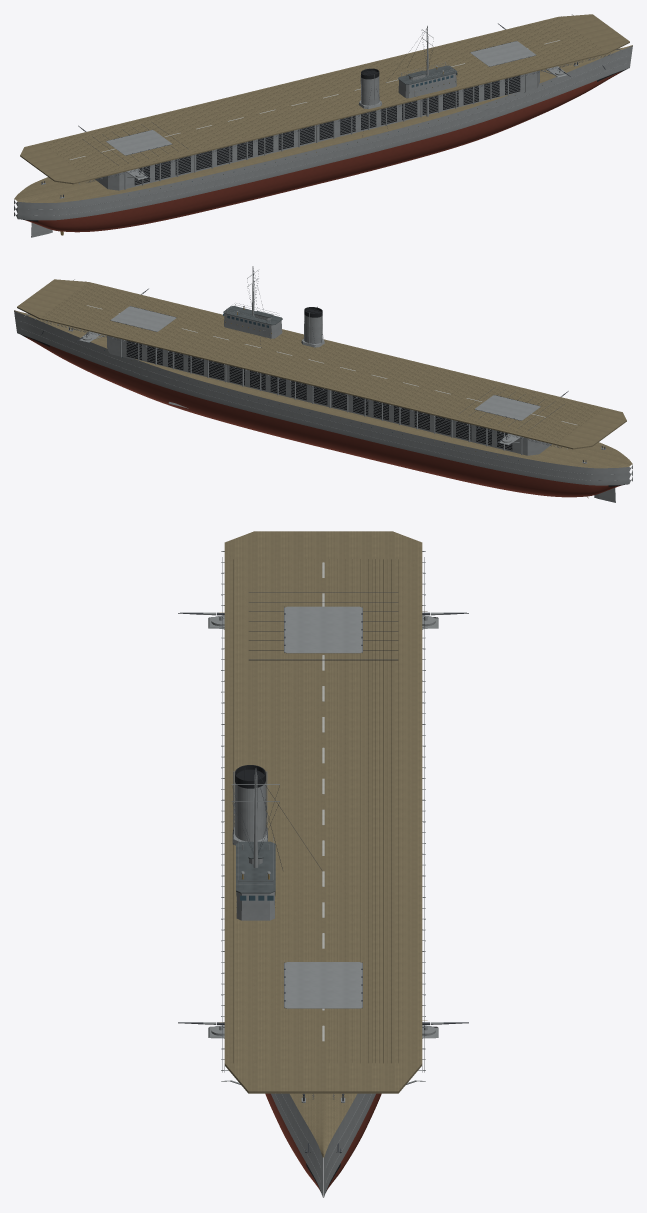
The model's file is fallback-cvl.glb.
3 renders of one model, top to bottom at view 1: azimuth 30°, elevation 25°; view 2: azimuth 150°, elevation 25°; view 3: azimuth 270°, elevation 25°, orthographic. The views are drawn at different scales.
Parts seen in each view (by area): view 1: Original CVL custom-design concept; view 2: Original CVL custom-design concept; view 3: Original CVL custom-design concept.
Boxes of the visible parts, x1,y1,x2,y2 form: Original CVL custom-design concept: [14, 14, 632, 237]; Original CVL custom-design concept: [14, 266, 632, 502]; Original CVL custom-design concept: [178, 531, 468, 1197].
Bounding box in the file's own units: 156 × 32.3 × 31.88.
9 materials, 8 textured.
